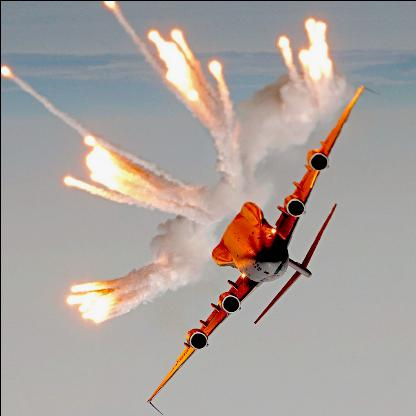C2: (146, 84, 382, 414)
